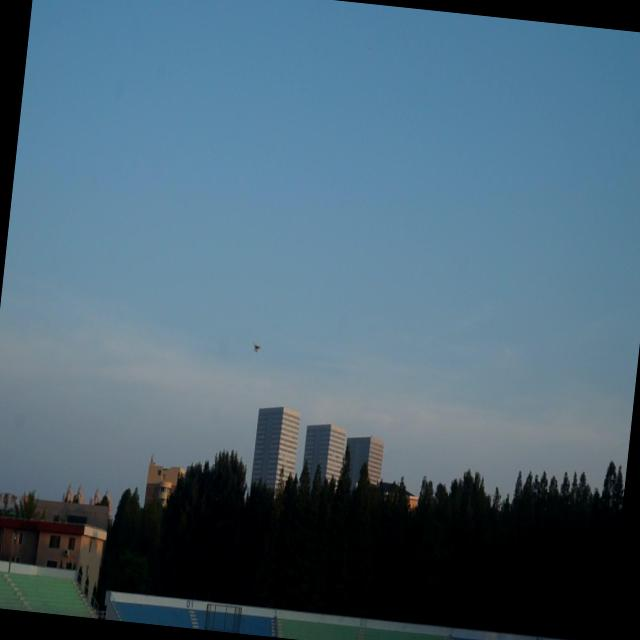drone: (250, 338, 263, 356)
